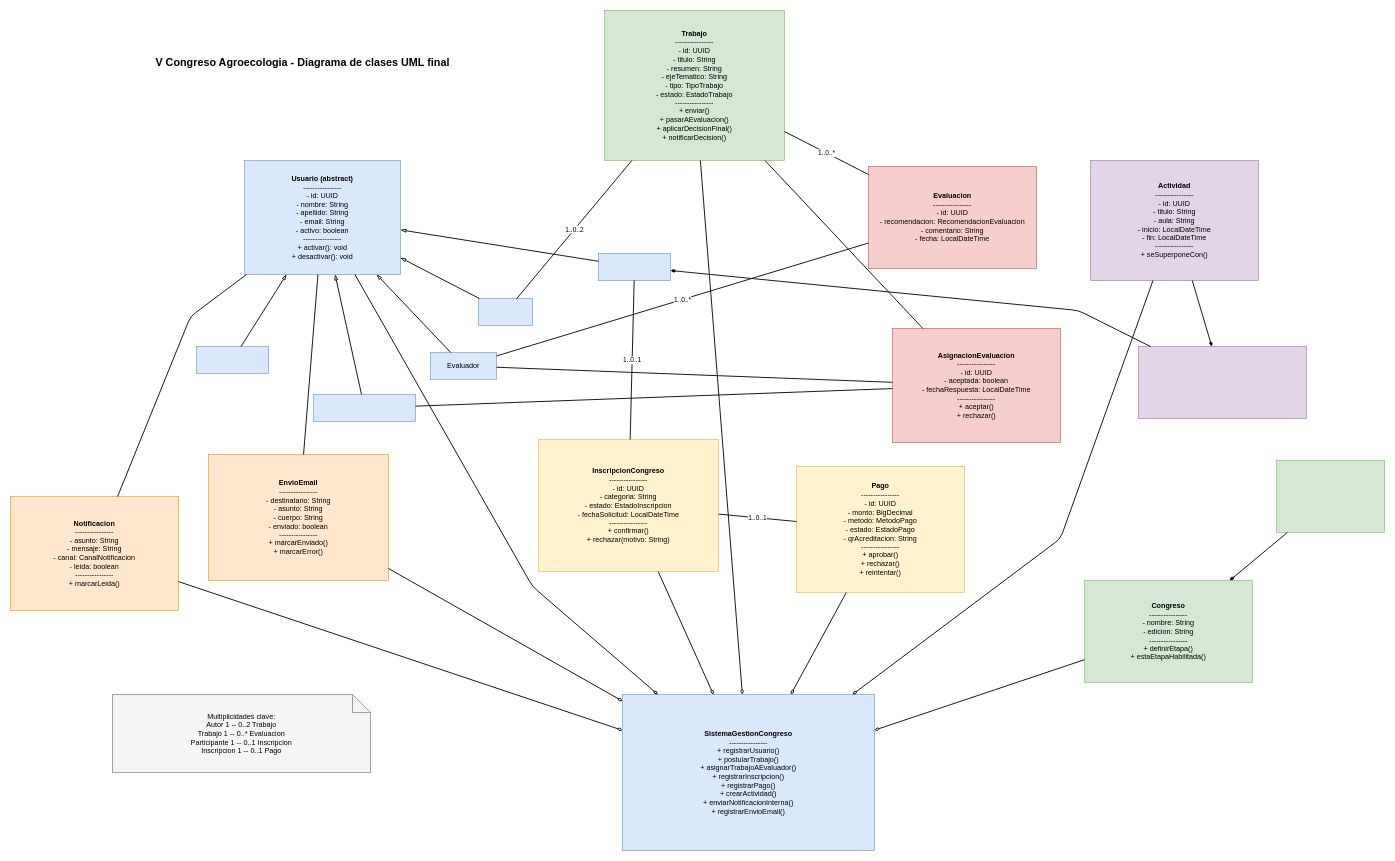
This 1395x861 diagram has some shape labels left out. The centre of each missing label's shape, as x and y in pixels:
"Administrador" goes at point 232,360.
"Autor" goes at point 505,312.
"CronogramaPersonal ---------------- + agregarActividad() + quitarActividad()" goes at point 1222,382.
"OrganizadorCientifico" goes at point 364,408.
"Participante" goes at point 634,266.
"RangoFechas - desde - hasta + contiene(fecha)" goes at point 1330,496.
